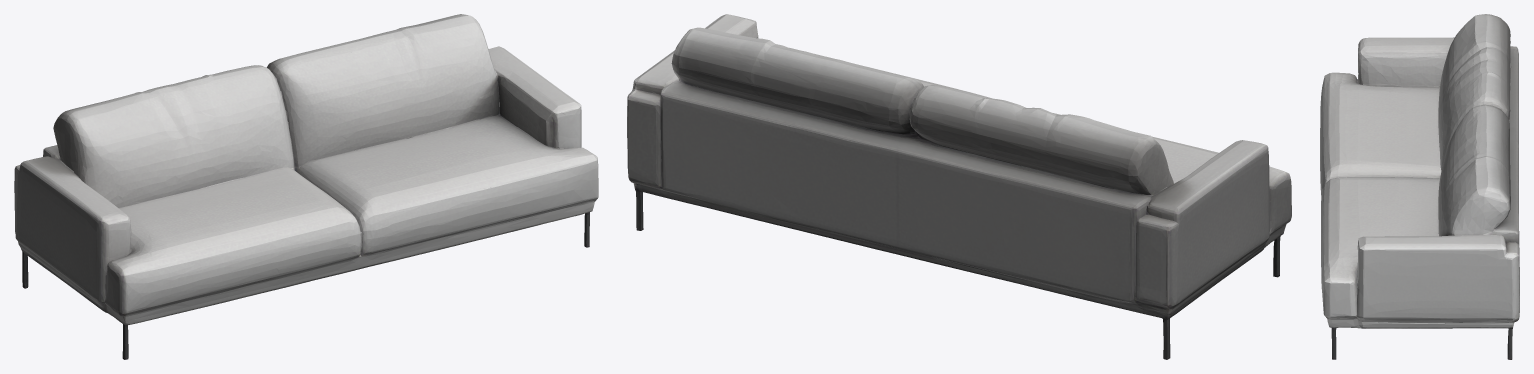
File: ccfed4a2-c019-4f76-9677-48de839bc638.glb
The picture shows the model from 3 angles, left to right: view 1: azimuth 30°, elevation 25°; view 2: azimuth 150°, elevation 25°; view 3: azimuth 270°, elevation 25°; orthographic projection. The views are drawn at different scales.
Parts seen in each view (by area): view 1: world; view 2: world; view 3: world.
Boxes of the visible parts, bbox=[...] form: world: bbox=[14, 14, 598, 359]; world: bbox=[627, 14, 1291, 359]; world: bbox=[1320, 14, 1519, 359].
Size of the model in its own units: 0.9963 by 0.354 by 0.3987.
Materials: 1 (1 with a texture image).
